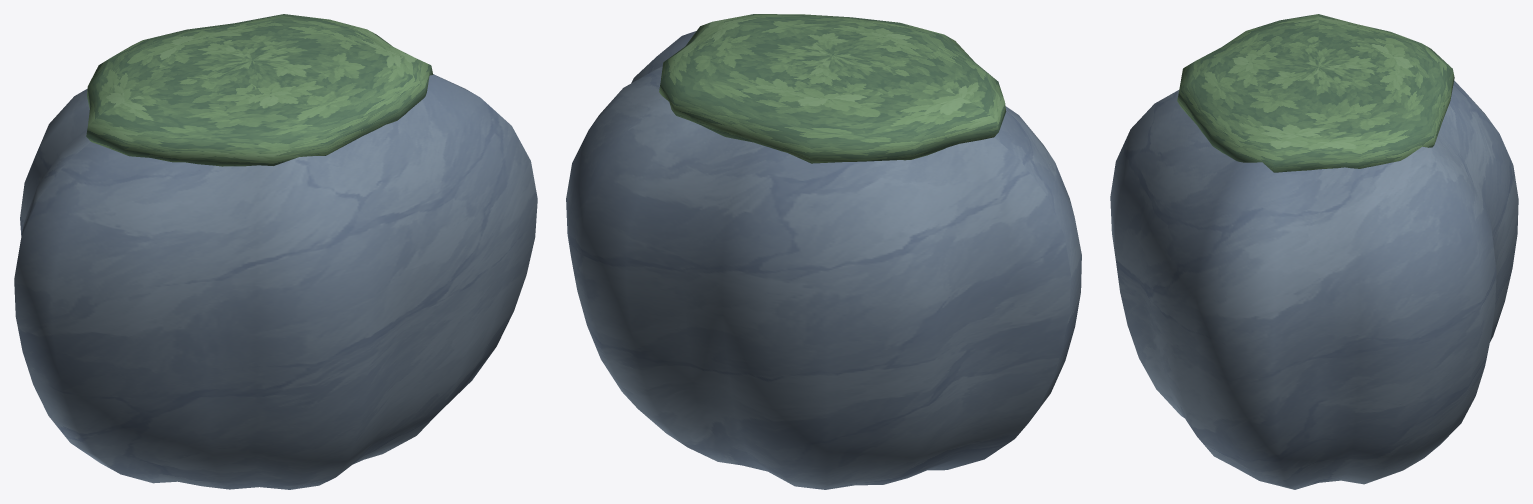
File: rock_1.glb
The picture shows the model from 3 angles, left to right: view 1: azimuth 30°, elevation 25°; view 2: azimuth 150°, elevation 25°; view 3: azimuth 270°, elevation 25°; orthographic projection. The views are drawn at different scales.
Parts seen in each view (by area): view 1: rock_1; view 2: rock_1; view 3: rock_1.
Part boxes in pixels (x1,y1,x2,y2): rock_1: (14,14,537,489); rock_1: (566,14,1081,489); rock_1: (1110,14,1518,489).
Bounding box in the file's own units: 2.34 × 1.86 × 1.84.
1 material, 1 textured.
